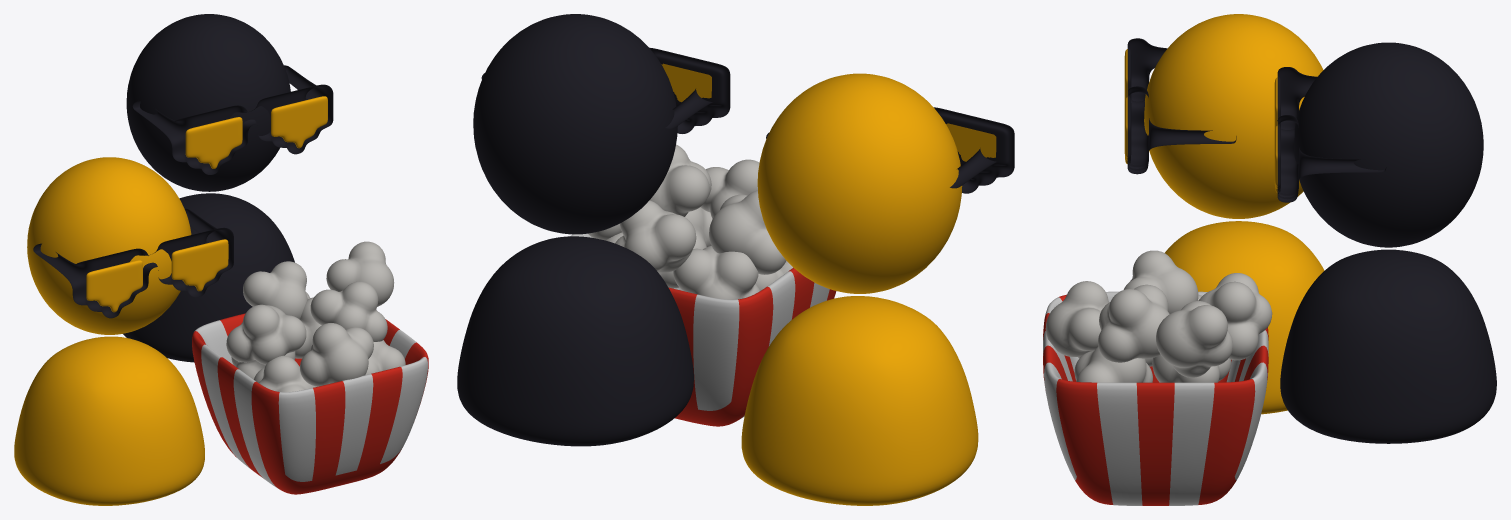
Rendered from watch-with-friends-animated-3d-icon-1042557246938.glb.
The picture shows the model from 3 angles, left to right: view 1: azimuth 30°, elevation 25°; view 2: azimuth 150°, elevation 25°; view 3: azimuth 270°, elevation 25°; orthographic projection. The views are drawn at different scales.
Visible parts, largest first — view 1: Body, Package, Head, Head.001, Body.001, Frame, Frame.001, Pop Corn.006, Pop Corn.008, Pop Corn.009, Pop Corn.007, Pop Corn.004 (+7 smaller); view 2: Body.001, Body, Head.001, Head, Package, Pop Corn.007, Pop Corn.008, Pop Corn.003, Frame, Frame.001, Pop Corn.009, Pop Corn.006 (+3 smaller); view 3: Body.001, Head.001, Package, Head, Body, Pop Corn.004, Pop Corn.009, Frame, Frame.001, Pop Corn.007, Pop Corn.006, Pop Corn.008 (+2 smaller).
Part boxes in pixels (x1,y1,x2,y2): Body: (14, 336, 204, 505); Package: (192, 313, 428, 494); Head: (27, 157, 191, 334); Head.001: (126, 14, 290, 191); Body.001: (123, 193, 294, 362); Frame: (33, 208, 233, 318); Frame.001: (132, 65, 333, 174); Pop Corn.006: (300, 323, 373, 386); Pop Corn.008: (226, 304, 306, 364); Pop Corn.009: (310, 281, 387, 341); Pop Corn.007: (243, 261, 310, 319); Pop Corn.004: (326, 241, 394, 306); Body.001: (457, 236, 693, 446); Body: (741, 296, 978, 505); Head.001: (473, 14, 677, 234); Head: (757, 73, 962, 293); Package: (570, 233, 836, 426); Pop Corn.007: (615, 200, 696, 272); Pop Corn.008: (709, 190, 786, 274); Pop Corn.003: (673, 246, 760, 299); Frame: (766, 107, 1014, 193); Frame.001: (481, 47, 730, 133); Pop Corn.009: (650, 144, 711, 216); Pop Corn.006: (701, 159, 759, 218); Body.001: (1280, 249, 1496, 443); Head.001: (1294, 42, 1483, 247); Package: (1043, 291, 1268, 505); Head: (1144, 14, 1323, 218); Body: (1165, 221, 1324, 414); Pop Corn.004: (1156, 301, 1232, 377); Pop Corn.009: (1098, 284, 1169, 362); Frame: (1127, 38, 1236, 174); Frame.001: (1277, 67, 1386, 202); Pop Corn.007: (1198, 273, 1272, 360); Pop Corn.006: (1045, 281, 1109, 356); Pop Corn.008: (1123, 250, 1198, 313).
Bounding box in the file's own units: 2.18 × 2.31 × 2.18.
